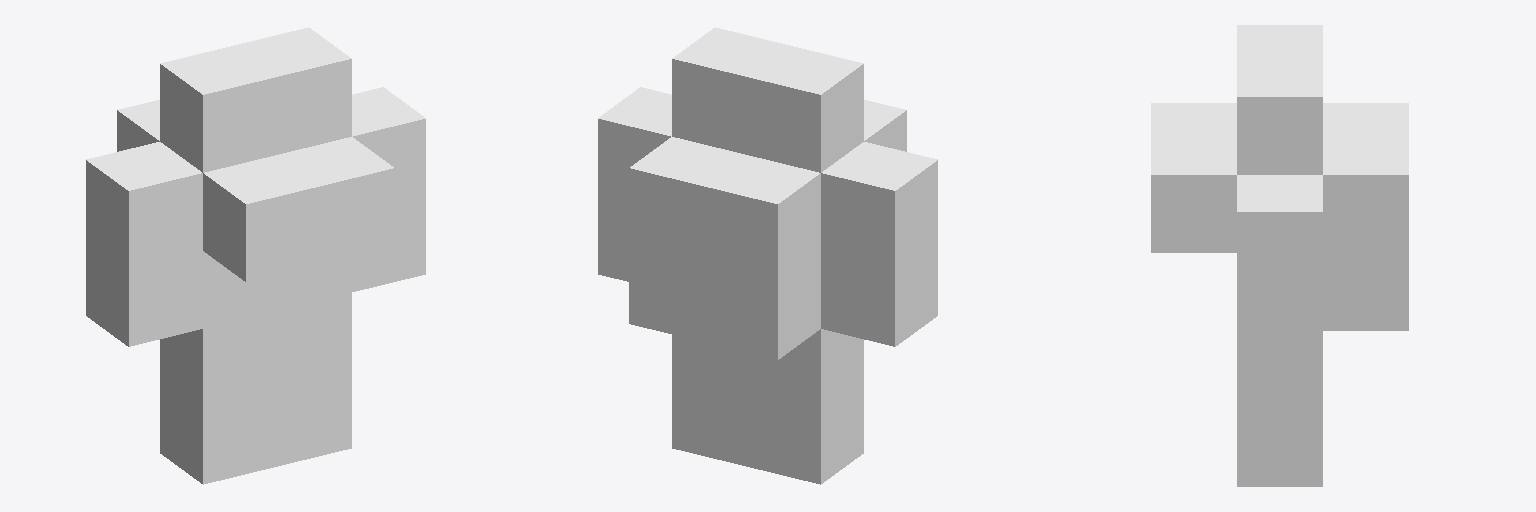
File: scummBarPIrate10_head.obj
The picture shows the model from 3 angles: view 1: azimuth 30°, elevation 25°; view 2: azimuth 150°, elevation 25°; view 3: azimuth 270°, elevation 25°; orthographic projection.
Bounding box in the file's own units: 4 × 5 × 3.